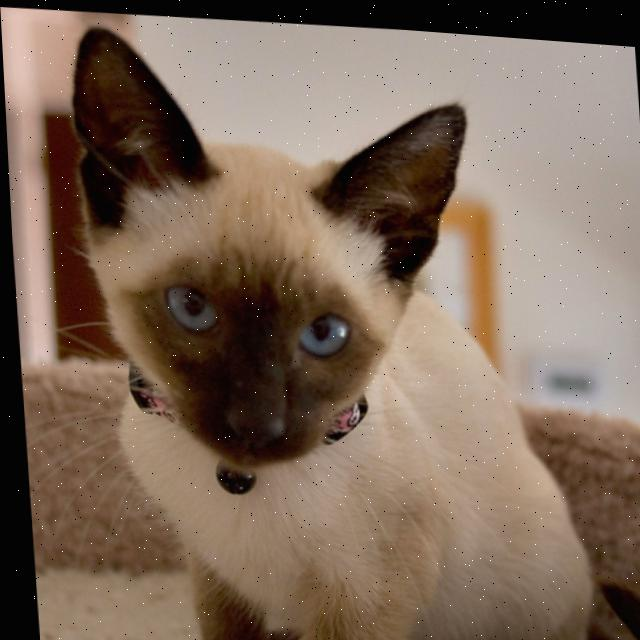Siamese: (57, 8, 596, 640)
